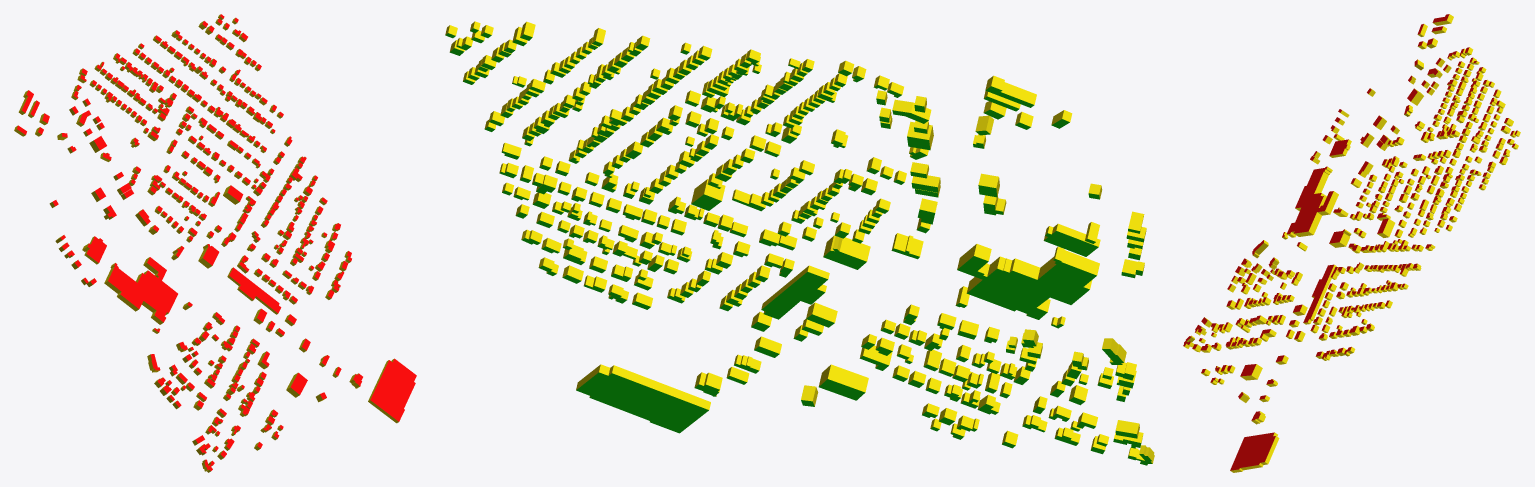
The picture shows the model from 3 angles, left to right: view 1: azimuth 30°, elevation 25°; view 2: azimuth 150°, elevation 25°; view 3: azimuth 270°, elevation 25°; orthographic projection. The views are drawn at different scales.
Parts seen in each view (by area): view 1: mesh; view 2: mesh; view 3: mesh.
Boxes of the visible parts, x1,y1,x2,y2 form: mesh: (14,14,416,472); mesh: (445,21,1154,465); mesh: (1183,14,1520,472).
Size of the model in its own units: 878 by 829 by 773.
